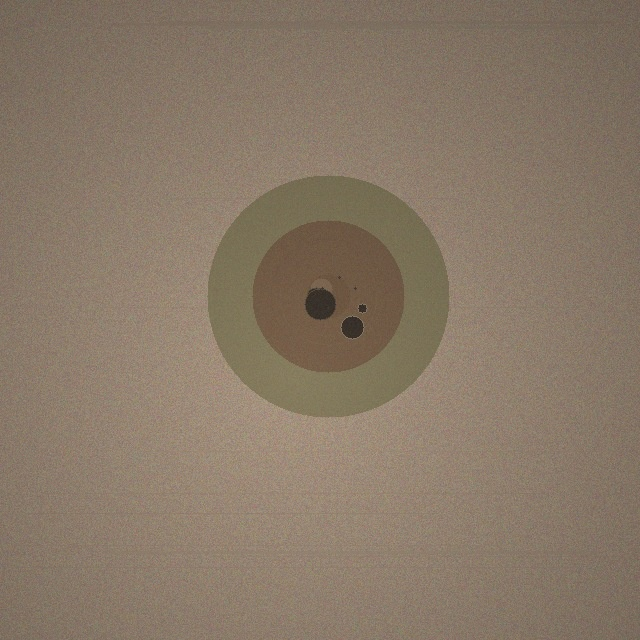shrinkage: (207, 175, 449, 417)
